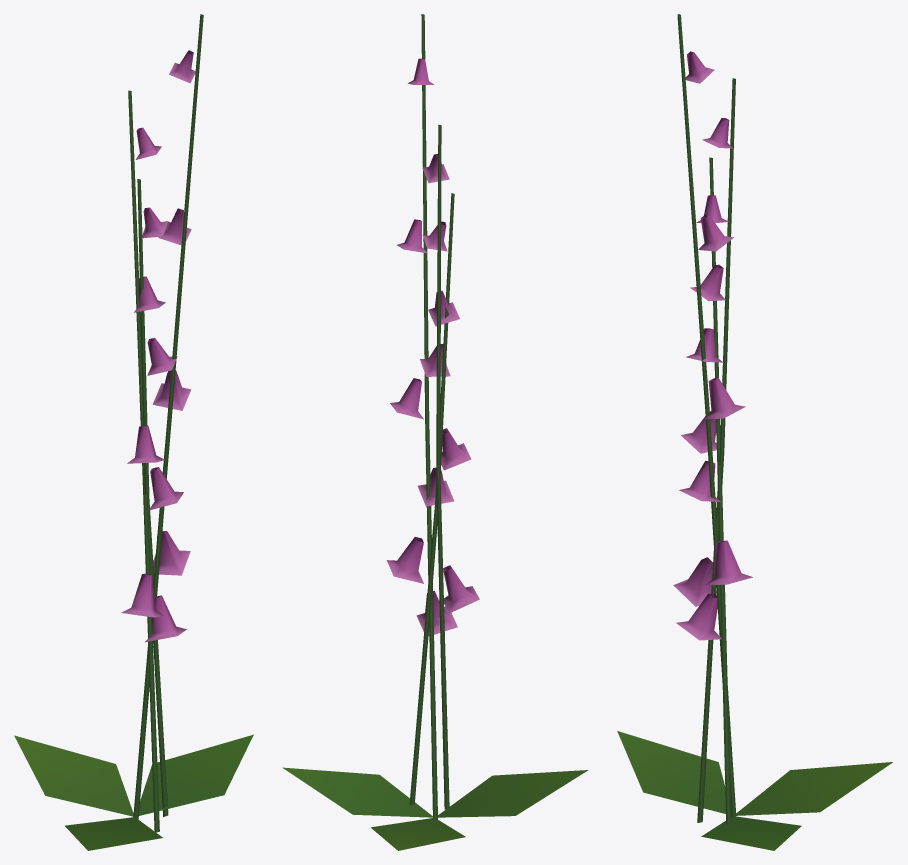
Rendered from flower-foxglove-b.lod2.glb.
3 renders of one model, left to right at view 1: azimuth 30°, elevation 25°; view 2: azimuth 150°, elevation 25°; view 3: azimuth 270°, elevation 25°, orthographic. The views are drawn at different scales.
Parts seen in each view (by area): view 1: flower-foxglove-b.lod2; view 2: flower-foxglove-b.lod2; view 3: flower-foxglove-b.lod2.
Part boxes in pixels (box(x1,y1,x2,y2)): flower-foxglove-b.lod2: box(14, 14, 253, 850); flower-foxglove-b.lod2: box(282, 14, 588, 850); flower-foxglove-b.lod2: box(617, 14, 892, 850).
Size of the model in its own units: 0.3543 by 1.13 by 0.3449.
